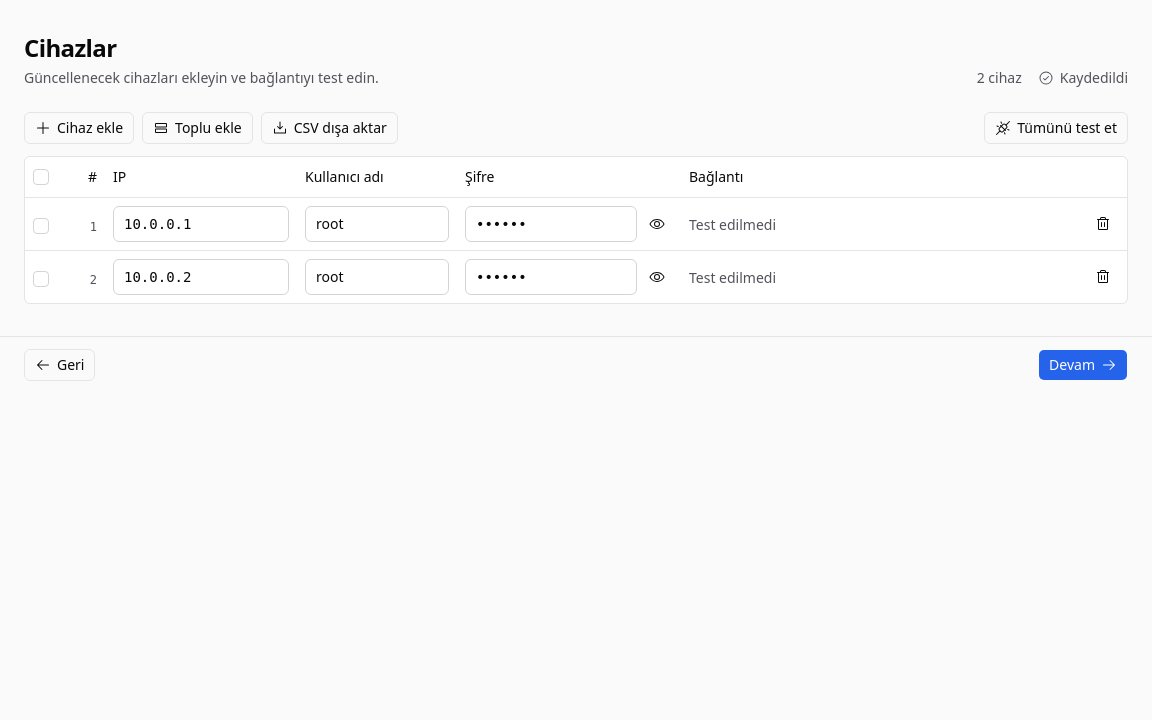
Scenario: DevicesStep › filters the table to problem devices and retests only those
Click the button "Tümünü test et": [1056, 128] box [984, 112, 1128, 144]
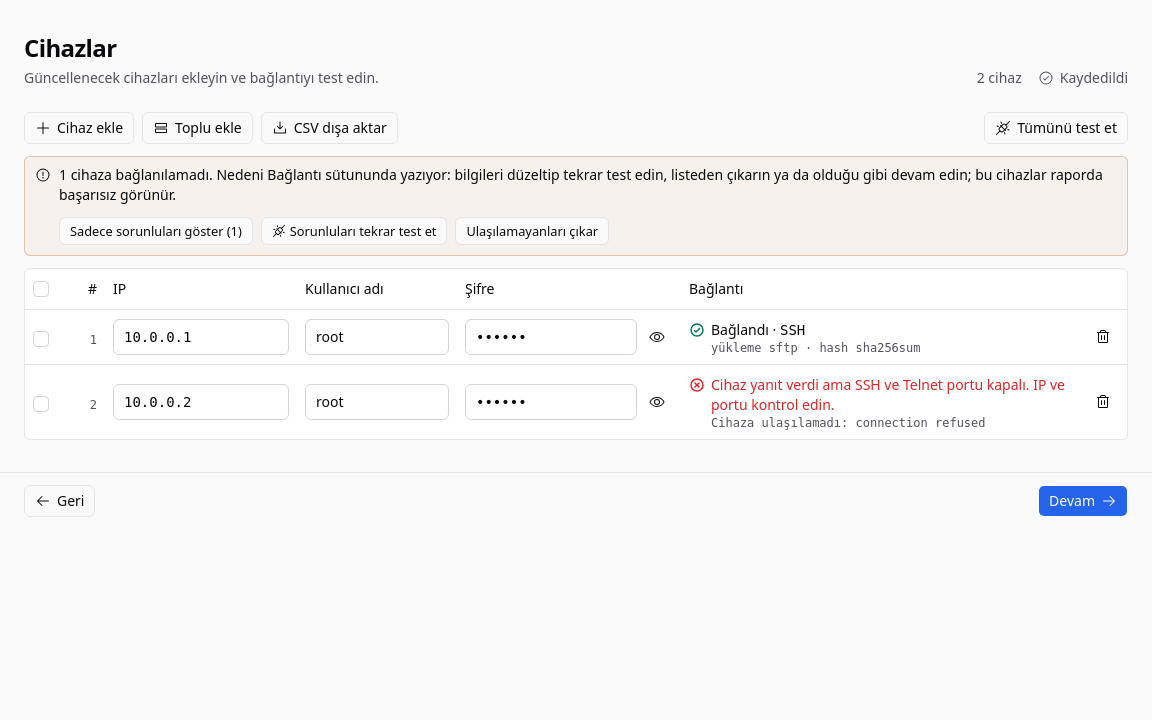
Click the button "Sadece sorunluları göster (1)": [156, 231] box [59, 217, 253, 245]
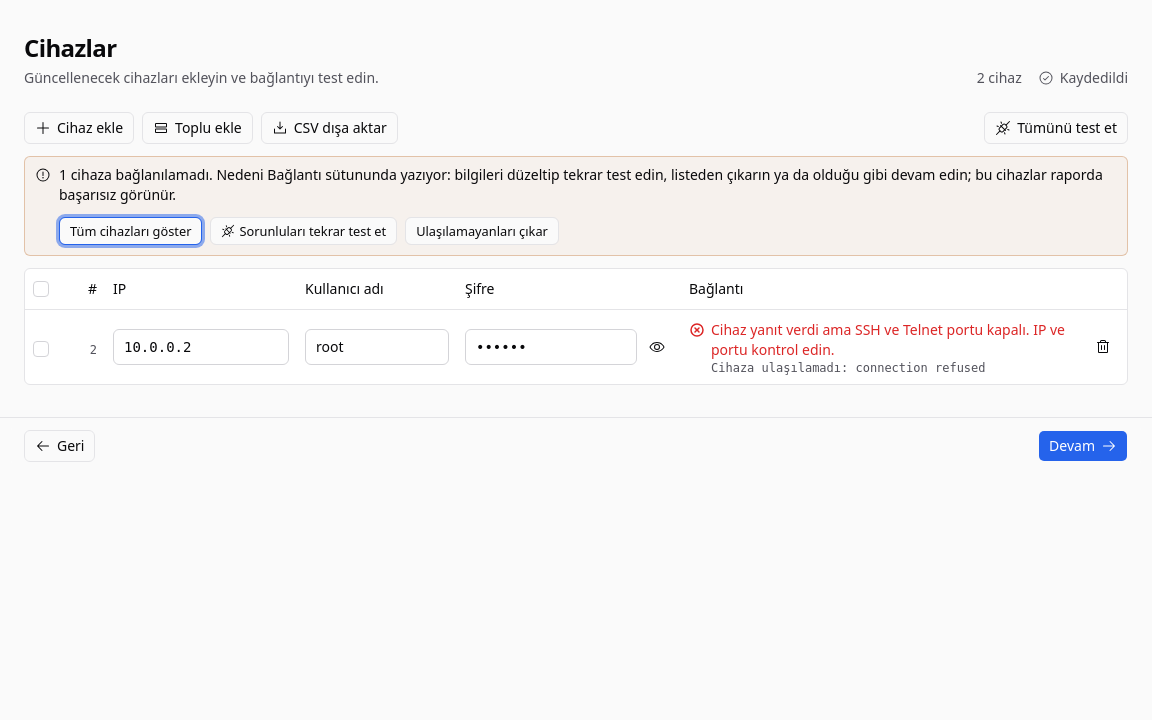
Expected: the field named "IP, satır 2" holds "10.0.0.2", [113, 328, 289, 364]
Click the button "Sorunluları tekrar test et": [304, 231] box [210, 217, 397, 245]
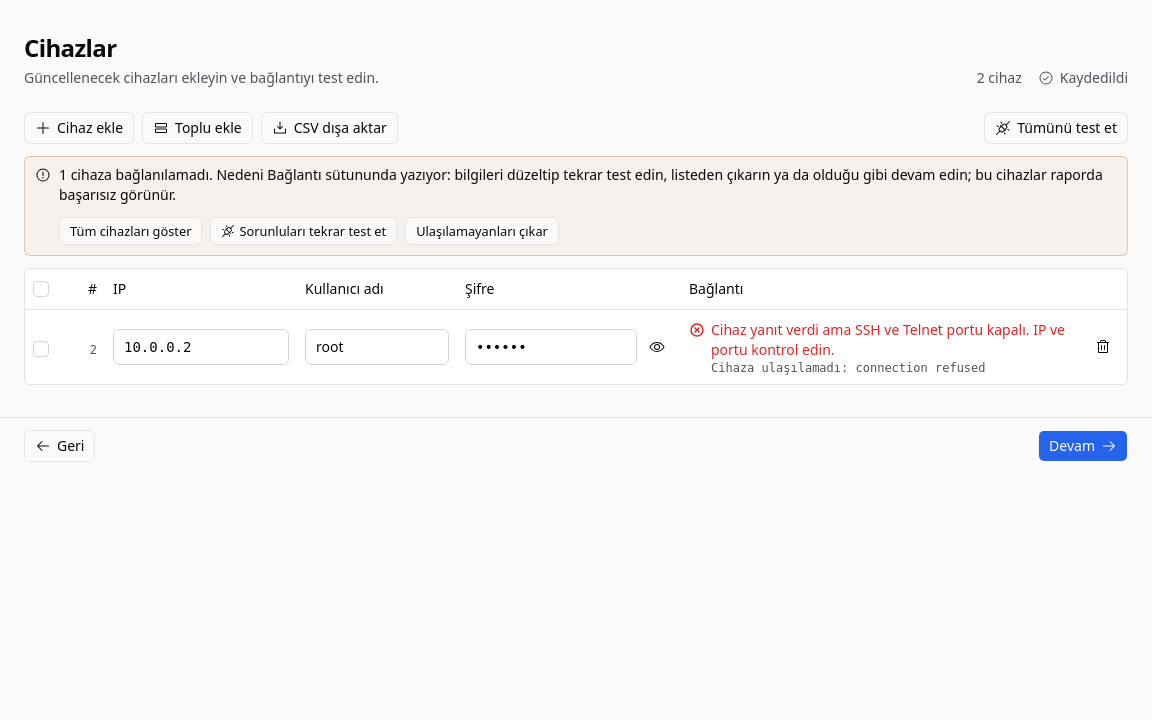
Click the button "Tüm cihazları göster": [131, 231] box [59, 217, 202, 245]
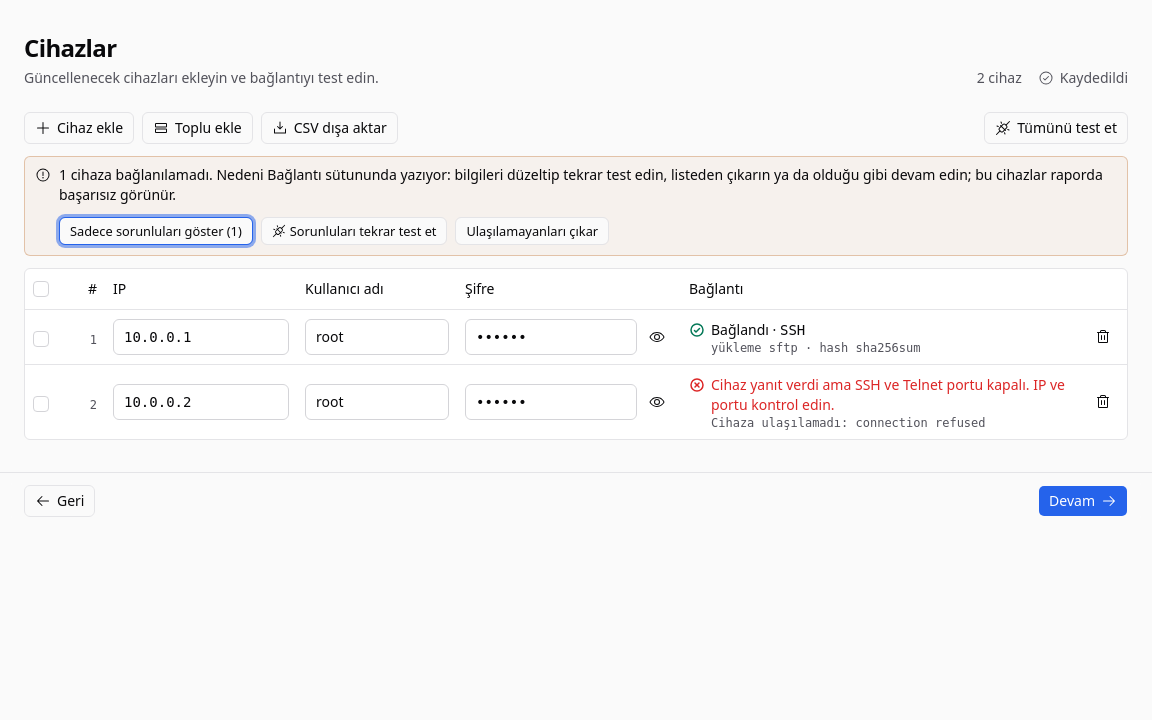
Result: the field named "IP, satır 1" is shown at [113, 318, 289, 354]
